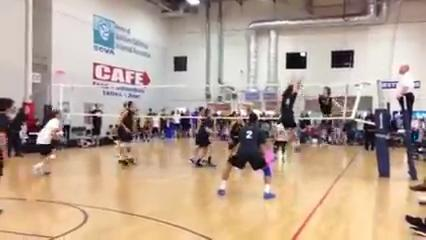attacco: (308, 79, 345, 141)
muro: (273, 78, 306, 152)
